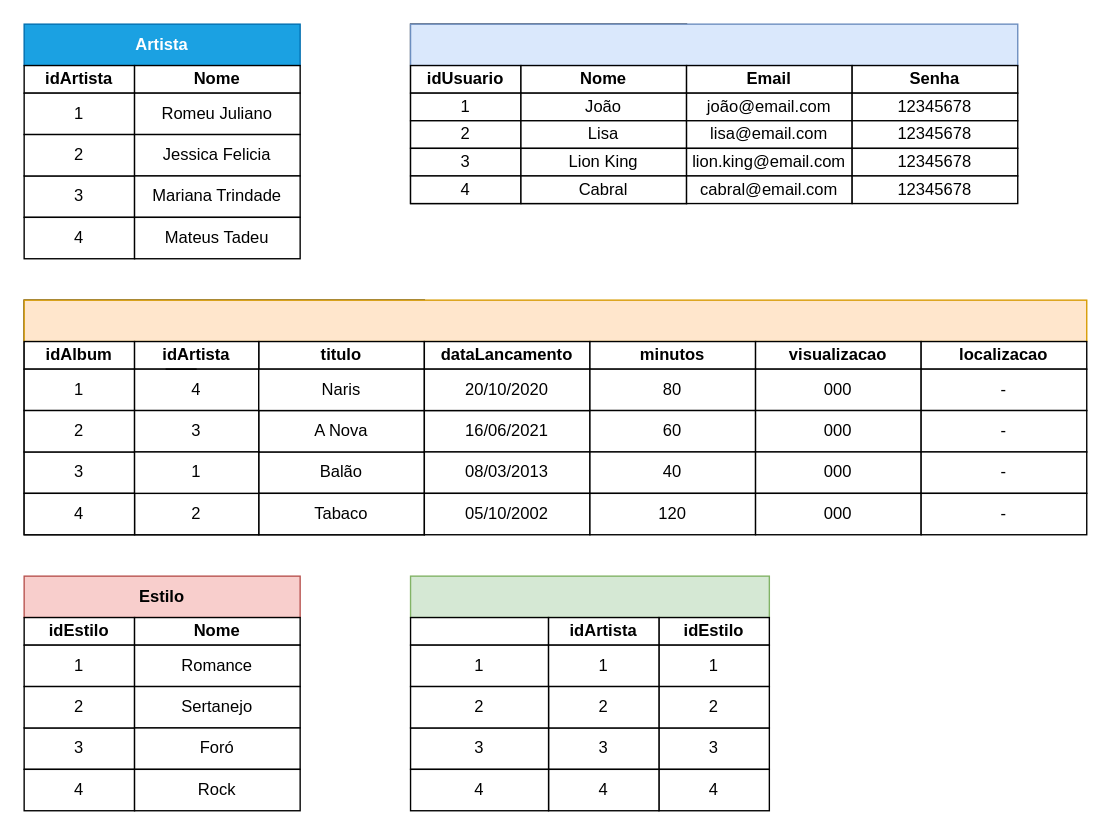
Some shapes in this 1111 by 835 pixel diagram are drawn without their labels. Each missing label, with the centre of its shape:
"Album" belongs at (x=555, y=320).
"Estilo_Album" belongs at (x=589, y=596).
"idEstilo_Album" belongs at (x=479, y=630).
"Usuario" belongs at (x=713, y=44).
